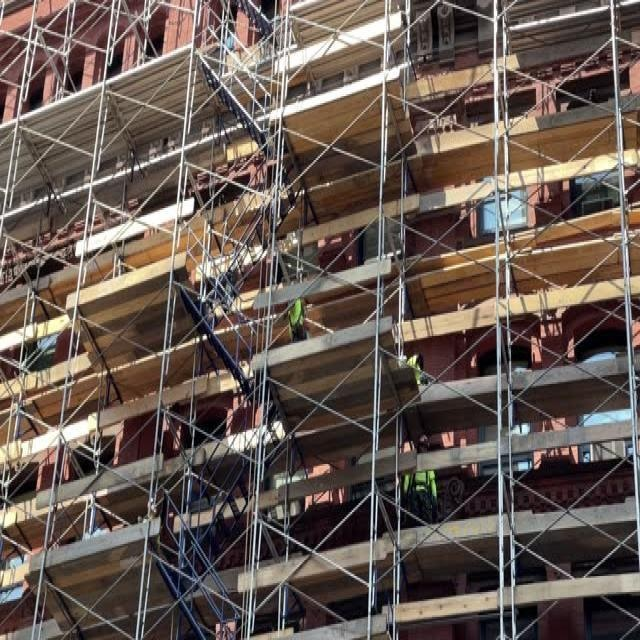Arnes_seguridad: (410, 471, 430, 496), (290, 302, 304, 329)
